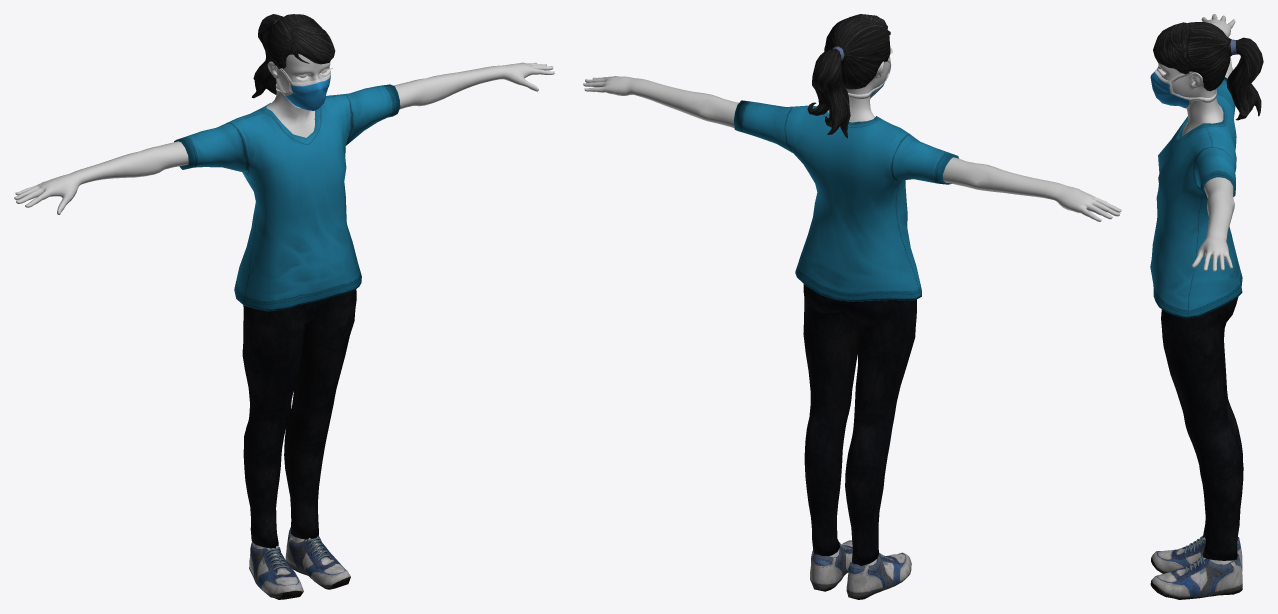
The model's file is blue2.obj.
3 renders of one model, left to right at view 1: azimuth 30°, elevation 25°; view 2: azimuth 150°, elevation 25°; view 3: azimuth 270°, elevation 25°, orthographic.
Visible parts, largest first — view 1: Tops, Bottoms, Body, Shoes, Hair, Masks; view 2: Tops, Bottoms, Body, Hair, Shoes; view 3: Tops, Bottoms, Hair, Body, Shoes, Masks.
Boxes of the visible parts, box(x1,y1,x2,y2) form: Tops: box(174, 84, 400, 311); Bottoms: box(242, 289, 356, 548); Body: box(14, 53, 554, 548); Shoes: box(249, 527, 350, 599); Hair: box(251, 14, 335, 98); Masks: box(276, 67, 330, 110); Tops: box(733, 100, 958, 301); Bottoms: box(803, 284, 916, 565); Body: box(583, 45, 1121, 565); Hair: box(807, 14, 890, 137); Shoes: box(810, 540, 911, 599); Tops: box(1150, 77, 1242, 318); Bottoms: box(1161, 297, 1243, 560); Hair: box(1153, 22, 1263, 120); Body: box(1156, 14, 1235, 564); Shoes: box(1150, 535, 1242, 599); Masks: box(1150, 69, 1216, 108).
Size of the model in its own units: 16.86 by 16.91 by 3.11.
